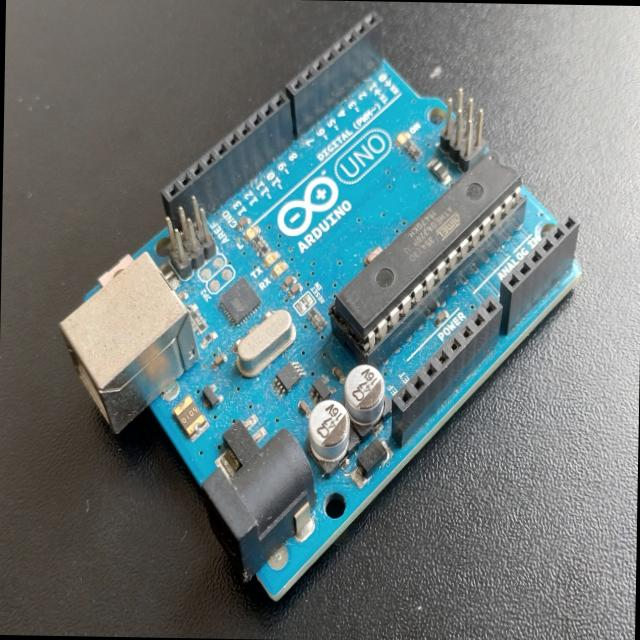arduino: (71, 6, 590, 601)
